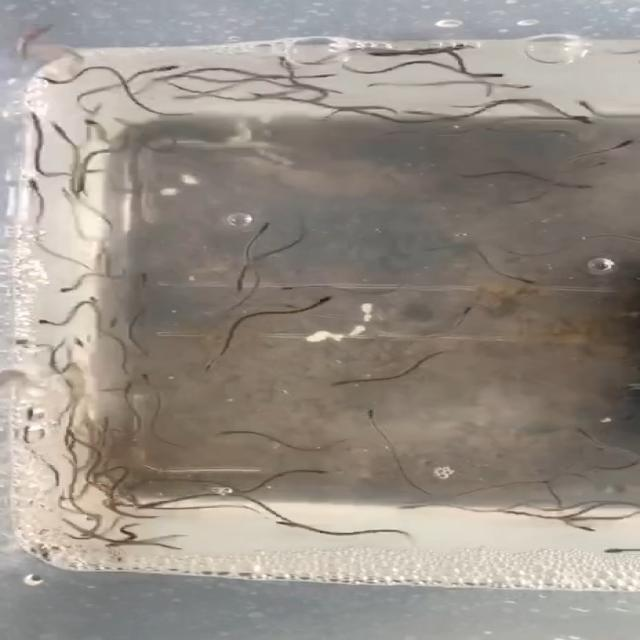inactive_glass_eel: (352, 401, 402, 431), (414, 42, 494, 56), (130, 272, 179, 290), (318, 374, 358, 394), (304, 460, 342, 481), (112, 380, 151, 400), (563, 174, 593, 198), (567, 523, 612, 539), (256, 52, 296, 70), (233, 222, 291, 234), (34, 309, 65, 329), (16, 109, 48, 128), (214, 429, 248, 446), (274, 516, 310, 532), (555, 106, 585, 125), (152, 61, 185, 78), (70, 117, 110, 131), (105, 539, 140, 555), (512, 268, 538, 289), (22, 176, 56, 192), (18, 404, 48, 422), (602, 137, 636, 152), (455, 306, 492, 319), (182, 83, 214, 98), (484, 70, 512, 87), (33, 71, 64, 86), (103, 314, 134, 329), (135, 375, 170, 388), (309, 291, 337, 307), (49, 117, 73, 134), (50, 284, 84, 296), (573, 98, 599, 109)
